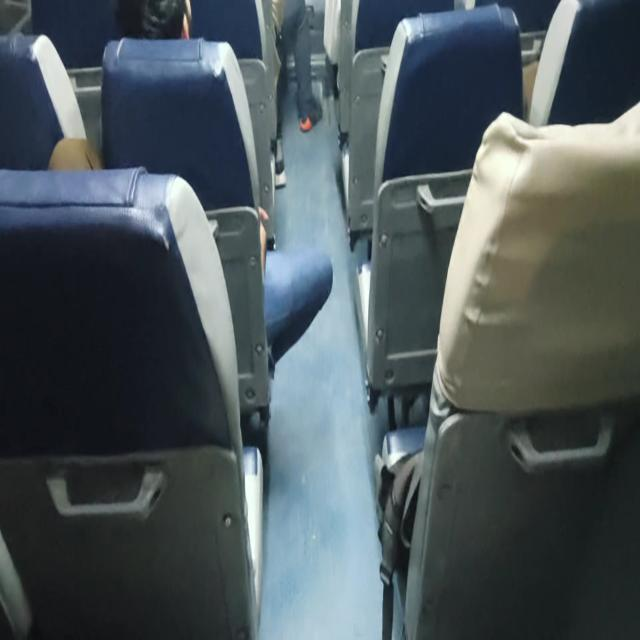person: (118, 0, 202, 56)
